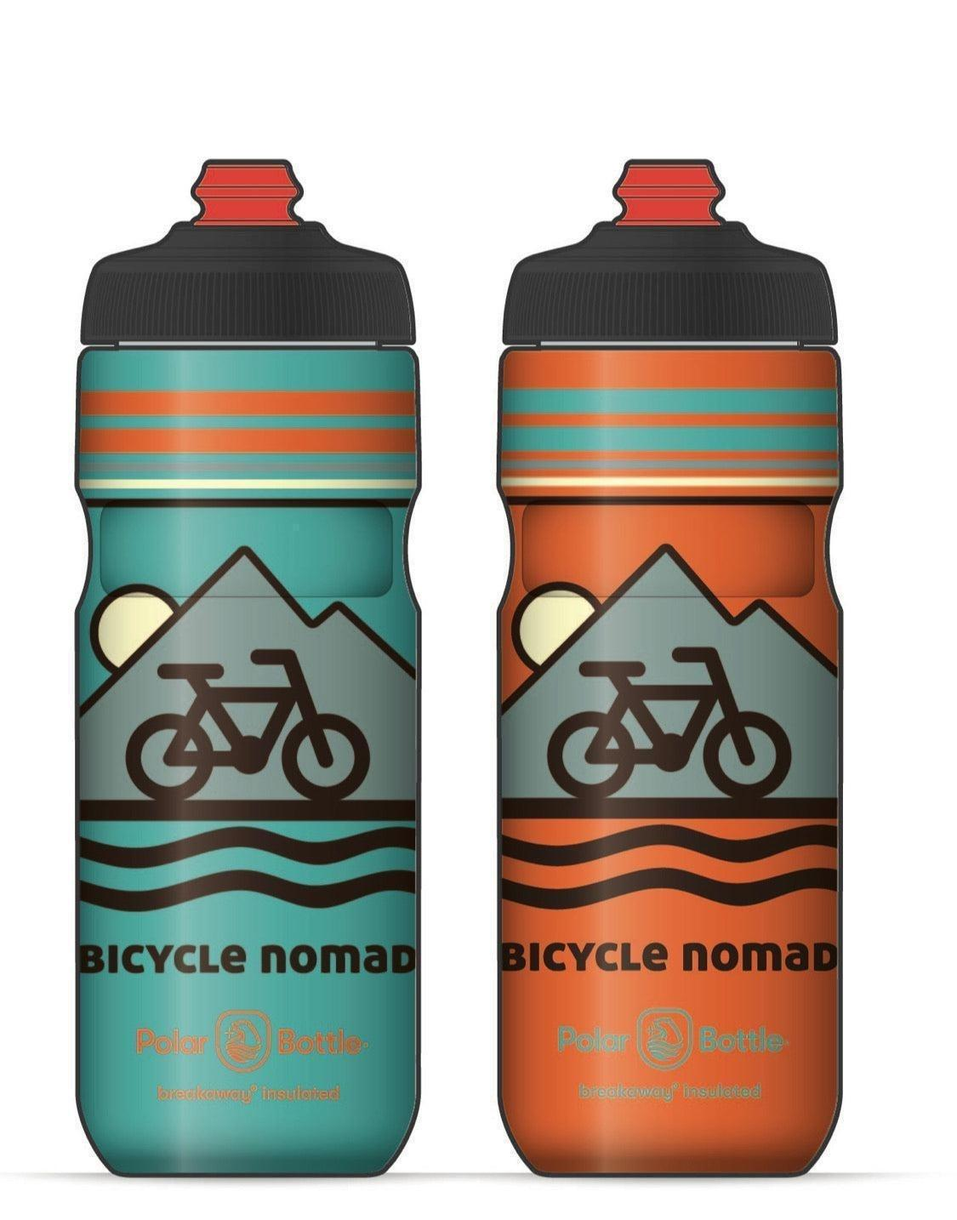gym bottle: (483, 147, 854, 1183), (65, 149, 432, 1185)
